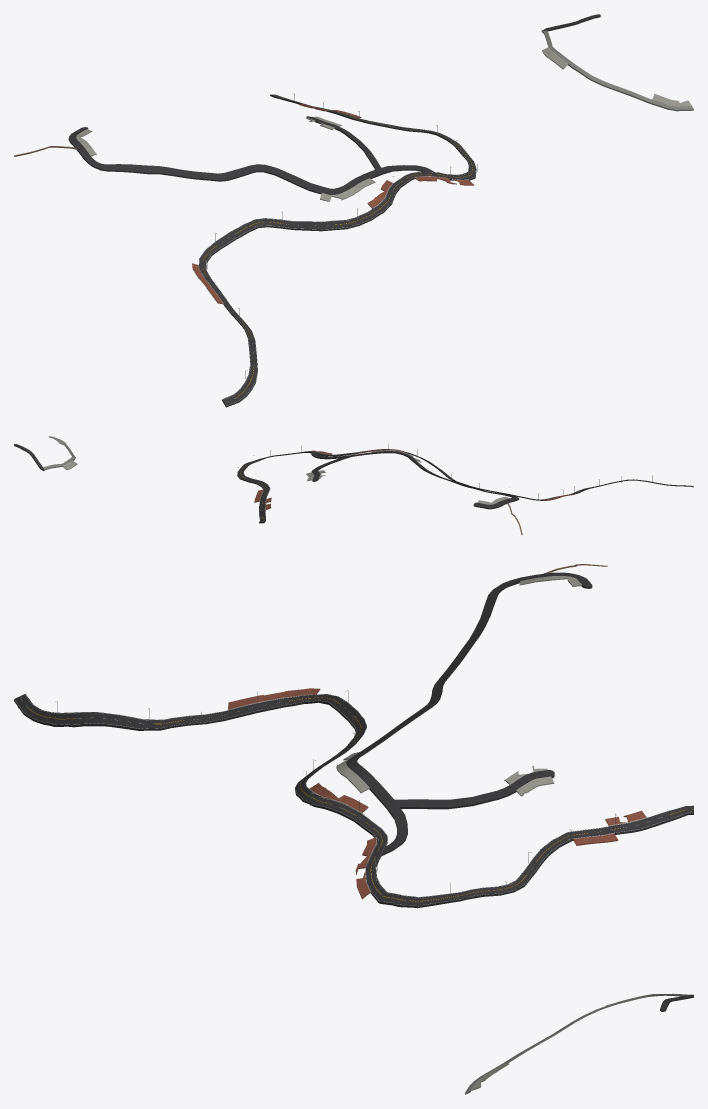
3 views of the same model, one above another, from view 1: azimuth 30°, elevation 25°; view 2: azimuth 150°, elevation 25°; view 3: azimuth 270°, elevation 25° (orthographic). The views are drawn at different scales.
Size of the model in its own units: 587 by 103 by 393.
